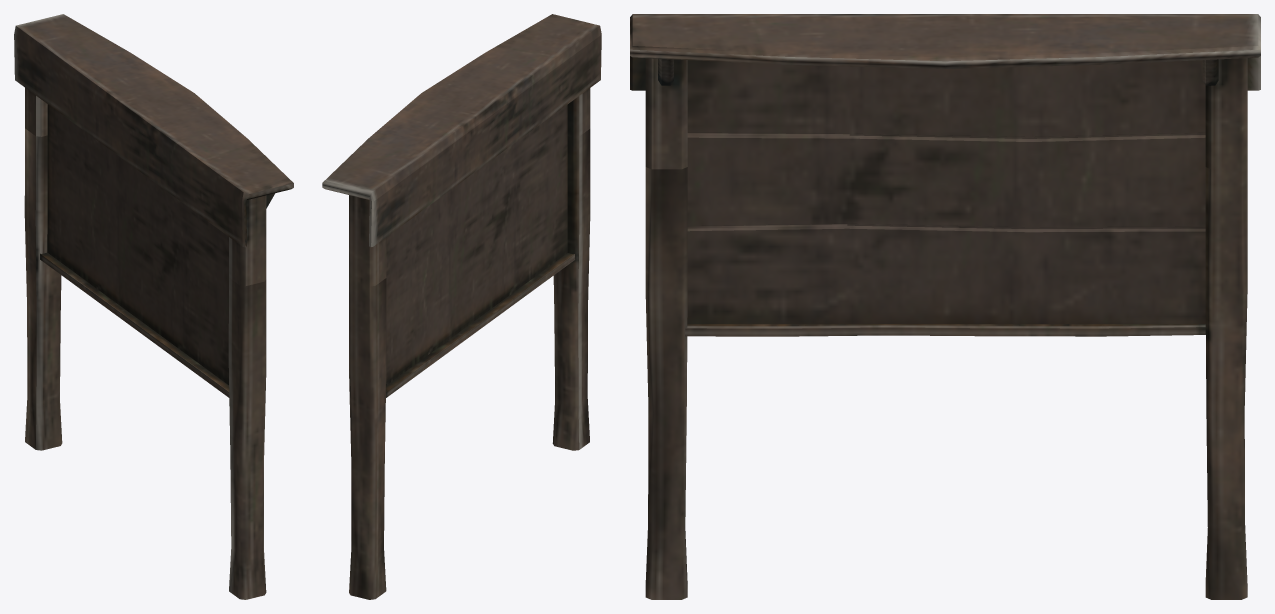
The model's file is Board.fbx.
3 views of the same model, side by side, from view 1: azimuth 30°, elevation 25°; view 2: azimuth 150°, elevation 25°; view 3: azimuth 270°, elevation 25° (orthographic). The views are drawn at different scales.
Parts seen in each view (by area): view 1: Boar; view 2: Boar; view 3: Boar.
Part boxes in pixels (left/top/right/bottom): Boar: left=14, top=14, right=293, bottom=599; Boar: left=322, top=14, right=601, bottom=599; Boar: left=630, top=14, right=1260, bottom=599.
Size of the model in its own units: 47.33 by 273 by 276.
